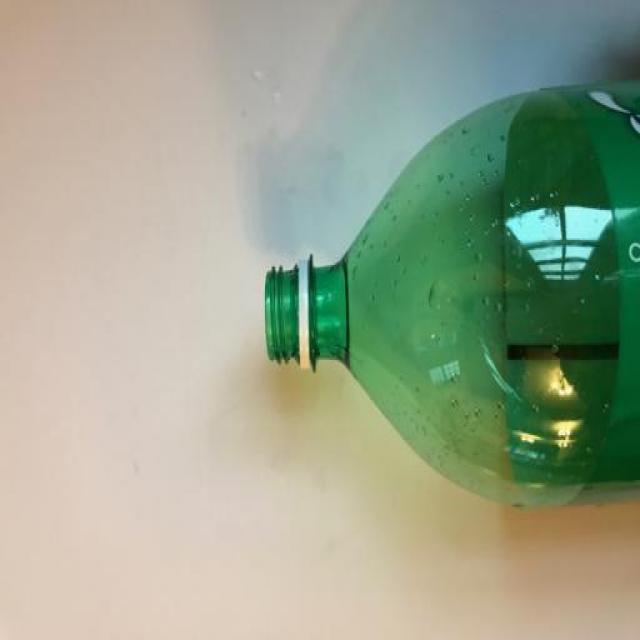plastic_bottle: (228, 74, 640, 522)
